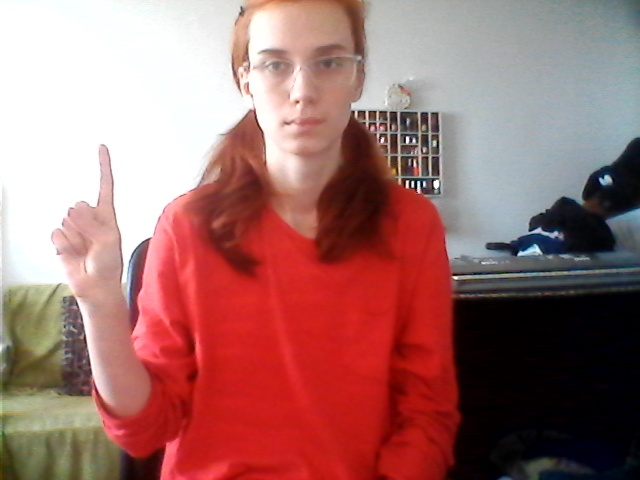i: (41, 136, 162, 308)
